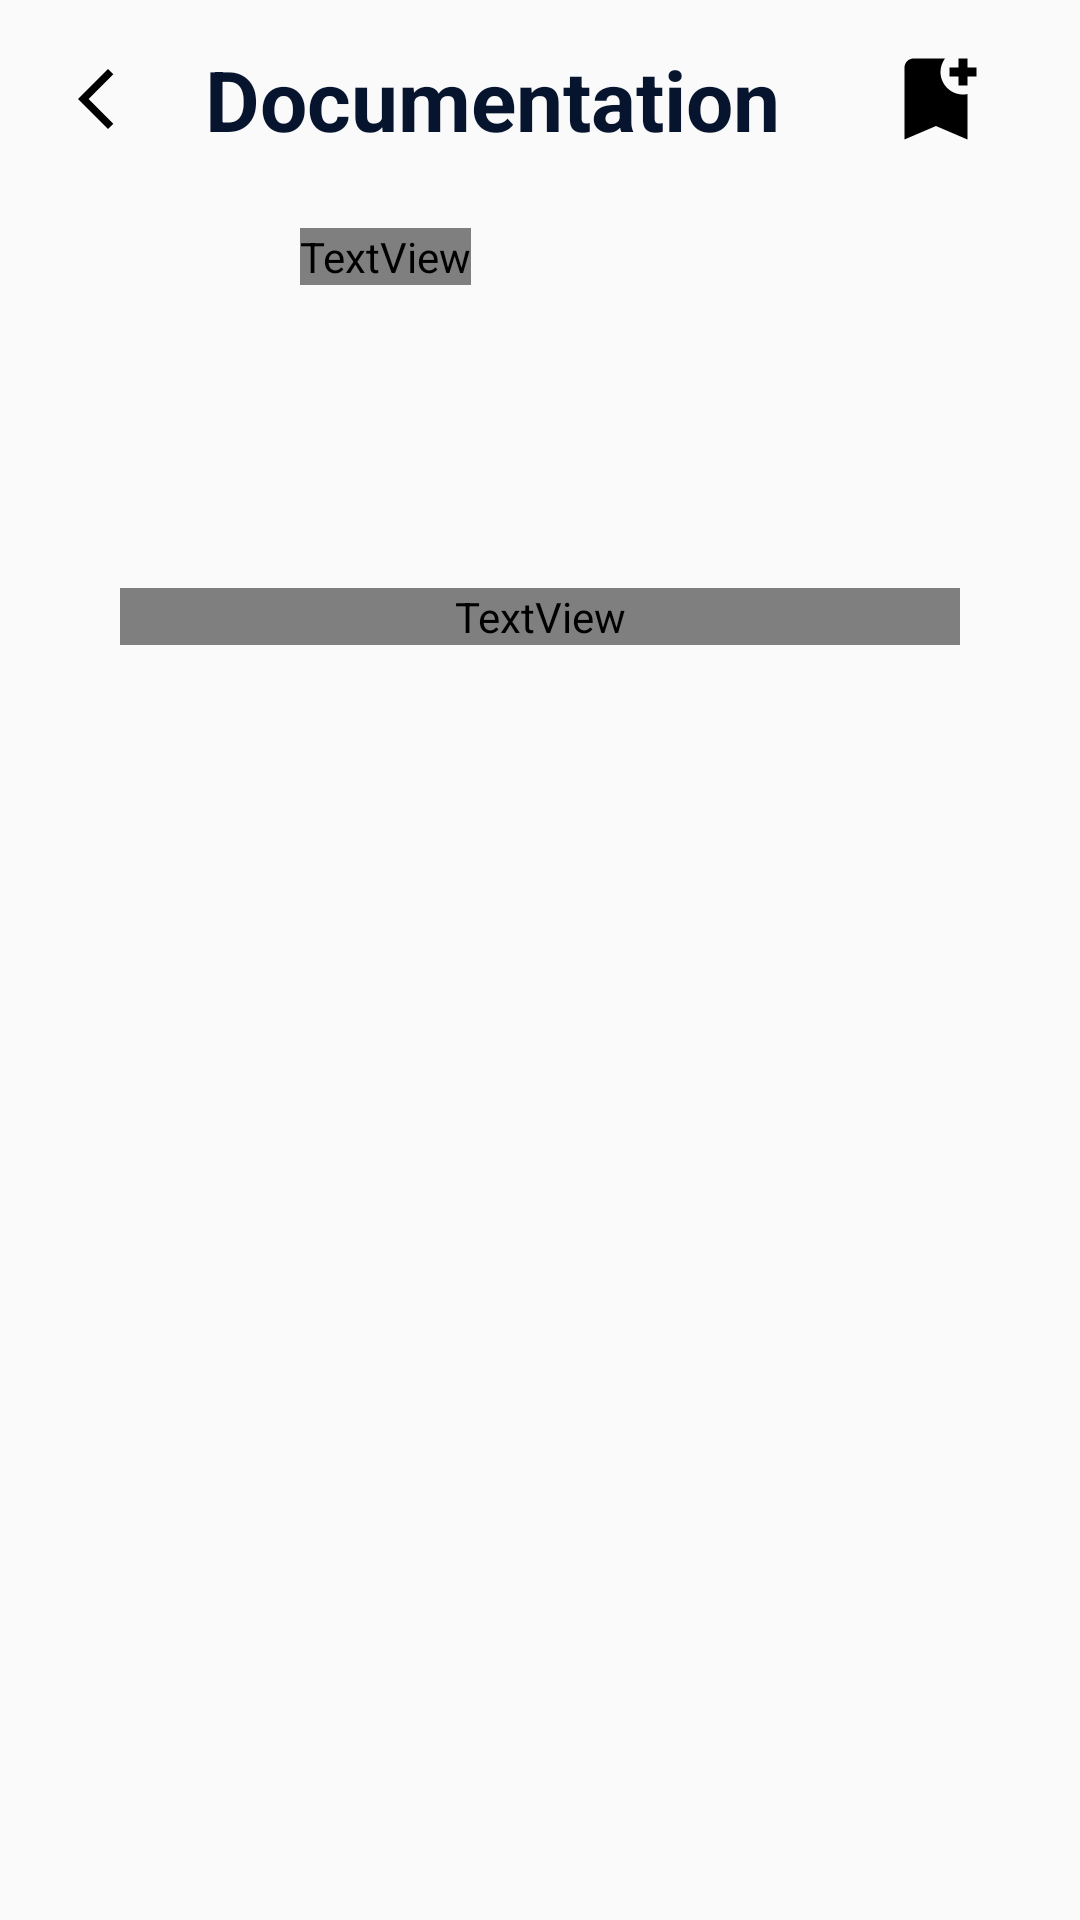

Named icons in this screenshot (1080 × 1920) and their centers, point (x, y):
arrow back: point (95, 99)
bookmark add: point (940, 99)
